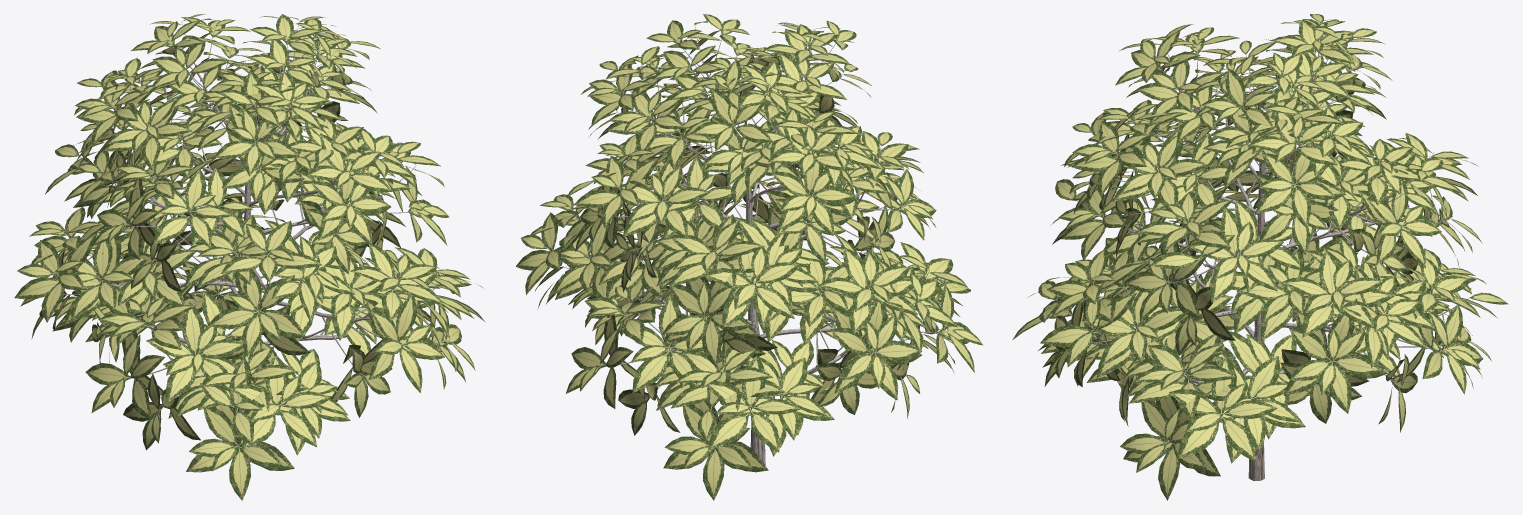
3 views of the same model, side by side, from view 1: azimuth 30°, elevation 25°; view 2: azimuth 150°, elevation 25°; view 3: azimuth 270°, elevation 25° (orthographic). The views are drawn at different scales.
Visible parts, largest first — view 1: Laurel02.obj.Shape_Leaf_0, Laurel02.obj.Shape_Branch_0; view 2: Laurel02.obj.Shape_Leaf_0, Laurel02.obj.Shape_Branch_0, Laurel02.obj.Shape_Trunk_0; view 3: Laurel02.obj.Shape_Leaf_0, Laurel02.obj.Shape_Branch_0, Laurel02.obj.Shape_Trunk_0.
Part boxes in pixels (x1=…): Laurel02.obj.Shape_Leaf_0: x1=14, y1=14, x2=484, y2=500; Laurel02.obj.Shape_Branch_0: x1=54, y1=20, x2=450, y2=446; Laurel02.obj.Shape_Leaf_0: x1=516, y1=14, x2=982, y2=500; Laurel02.obj.Shape_Branch_0: x1=548, y1=25, x2=950, y2=414; Laurel02.obj.Shape_Trunk_0: x1=745, y1=171, x2=765, y2=465; Laurel02.obj.Shape_Leaf_0: x1=1012, y1=14, x2=1508, y2=500; Laurel02.obj.Shape_Branch_0: x1=1054, y1=21, x2=1468, y2=442; Laurel02.obj.Shape_Trunk_0: x1=1248, y1=162, x2=1264, y2=480.
Size of the model in its own units: 1.26 by 1.27 by 1.27.
2 materials, 2 textured.
